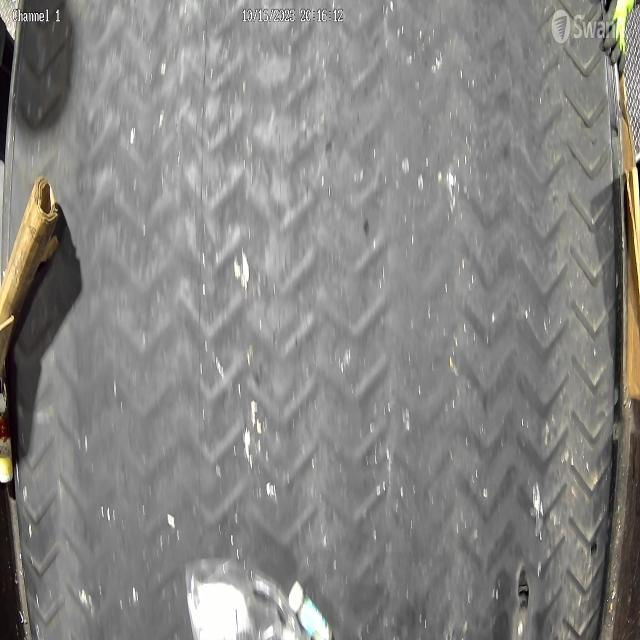non_white_jug: (184, 557, 299, 640)
